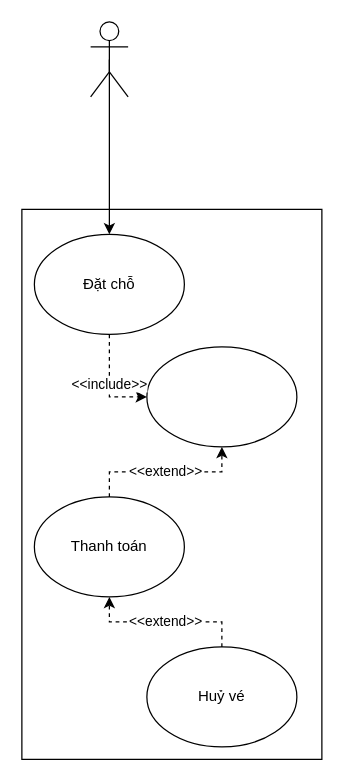
Image size: 344x781. Some labels were removed from this diagram. The centre of each missing label's shape, as x and y in pixels:
Chọn ghế: the point at 221,396
Người dùng: the point at 108,59
